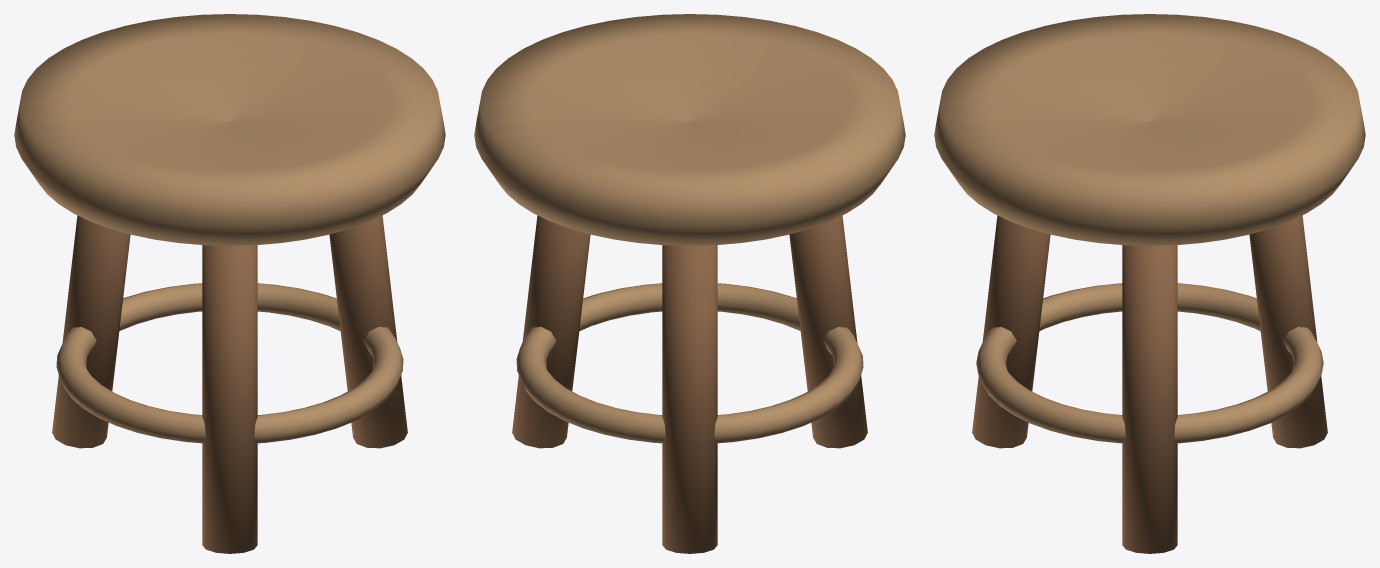
File: wooden-stool.glb
3 views of the same model, side by side, from view 1: azimuth 30°, elevation 25°; view 2: azimuth 150°, elevation 25°; view 3: azimuth 270°, elevation 25° (orthographic).
Parts seen in each view (by area): view 1: wooden-stool__woodlight, wooden-stool__wood; view 2: wooden-stool__woodlight, wooden-stool__wood; view 3: wooden-stool__woodlight, wooden-stool__wood.
Part boxes in pixels (bbox=[...]): wooden-stool__woodlight: bbox=[14, 14, 445, 443]; wooden-stool__wood: bbox=[52, 215, 407, 553]; wooden-stool__woodlight: bbox=[474, 14, 905, 443]; wooden-stool__wood: bbox=[512, 215, 867, 553]; wooden-stool__woodlight: bbox=[934, 14, 1365, 443]; wooden-stool__wood: bbox=[972, 215, 1327, 553].
Size of the model in its own units: 0.72 by 0.6854 by 0.72.
